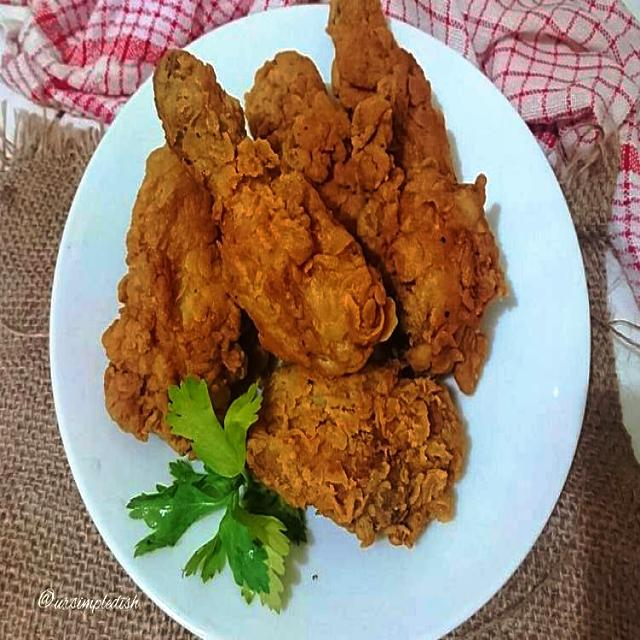fried_chicken: (249, 0, 512, 383), (150, 49, 393, 378), (103, 137, 252, 446), (210, 369, 470, 546)
